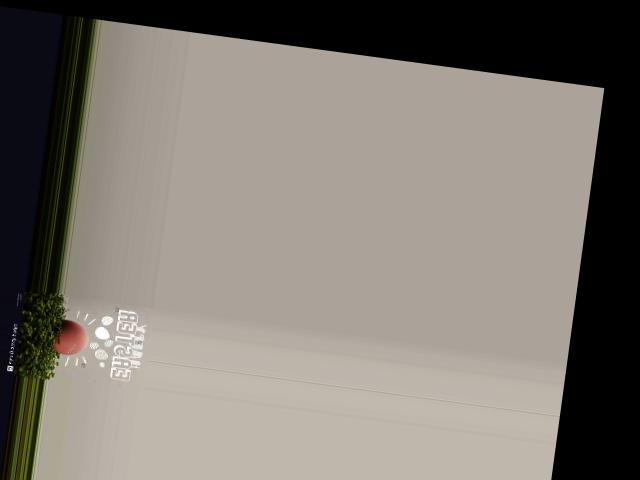egg: (52, 317, 90, 356)
